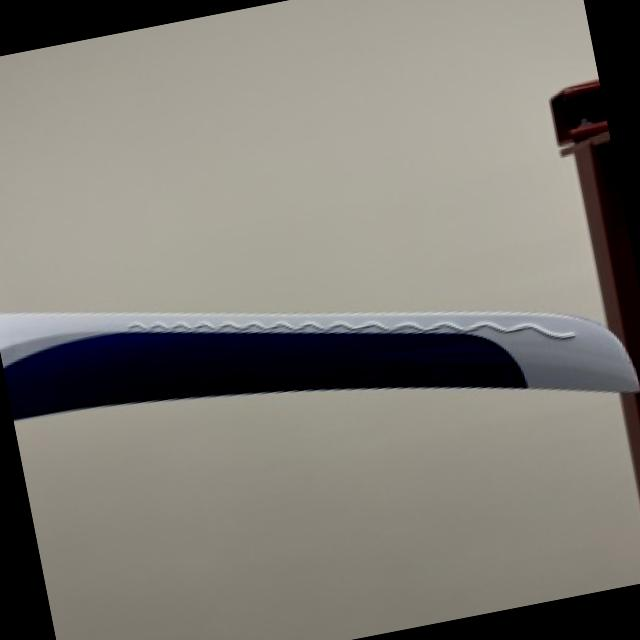healthy: (0, 311, 637, 419)
